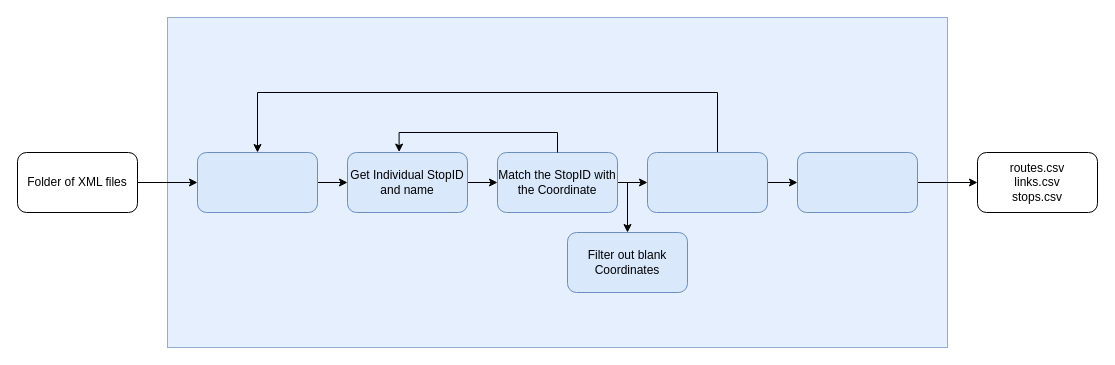
Image size: 1115x365. Some labels were removed from this diagram. Here are the shapes that lost their labels. From the top down, the box of each, then its label:
(196, 152, 318, 212): Open XML File
(646, 152, 768, 212): Generate Route and Link lists
(796, 152, 918, 212): Generate CSVs from global lists
